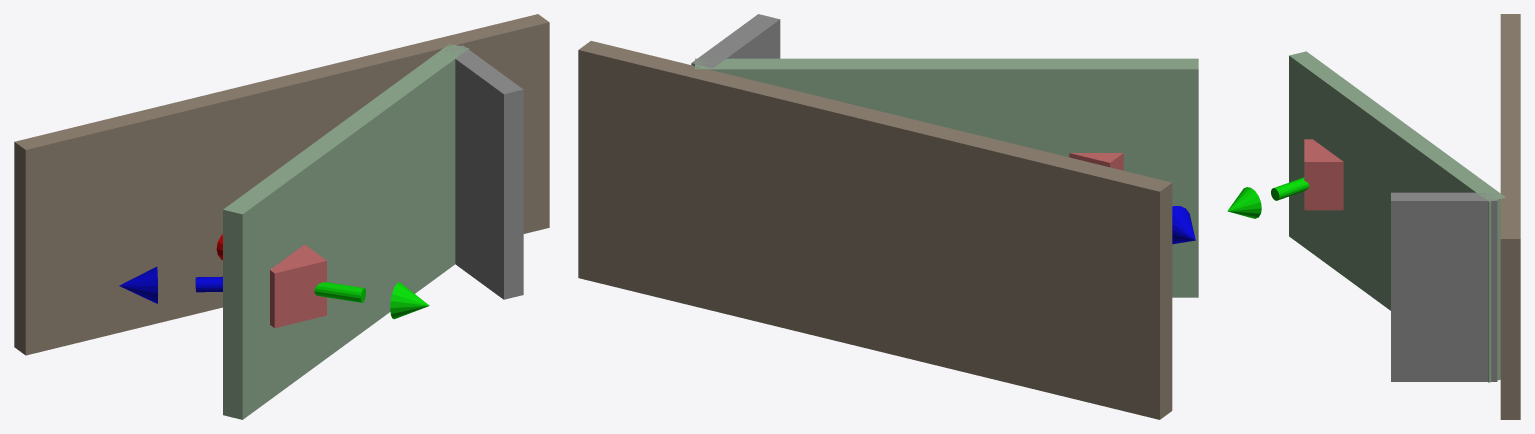
The model's file is inclined_plane.glb.
3 views of the same model, side by side, from view 1: azimuth 30°, elevation 25°; view 2: azimuth 150°, elevation 25°; view 3: azimuth 270°, elevation 25° (orthographic). The views are drawn at different scales.
Parts seen in each view (by area): view 1: world; view 2: world; view 3: world.
Boxes of the visible parts, x1,y1,x2,y2 form: world: [14, 14, 549, 419]; world: [578, 14, 1198, 419]; world: [1227, 14, 1520, 419].
Size of the model in its own units: 8 by 3 by 4.41.
